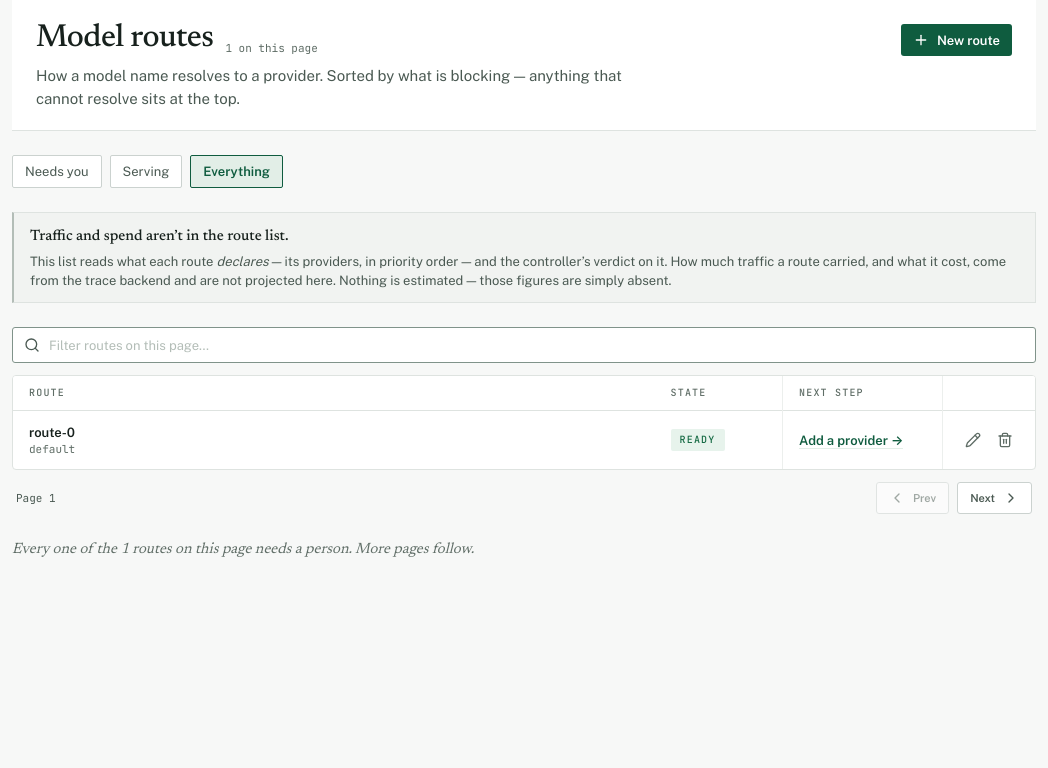
Scenario: ModelRoutesPage — list › paginates: Next pushes cursor, Prev pops it
expect the text "route-0" is shown: met, box 29,425 -> 75,440
Click the button with aria-label "Next page" at (995, 498), box 957,482 -> 1032,514
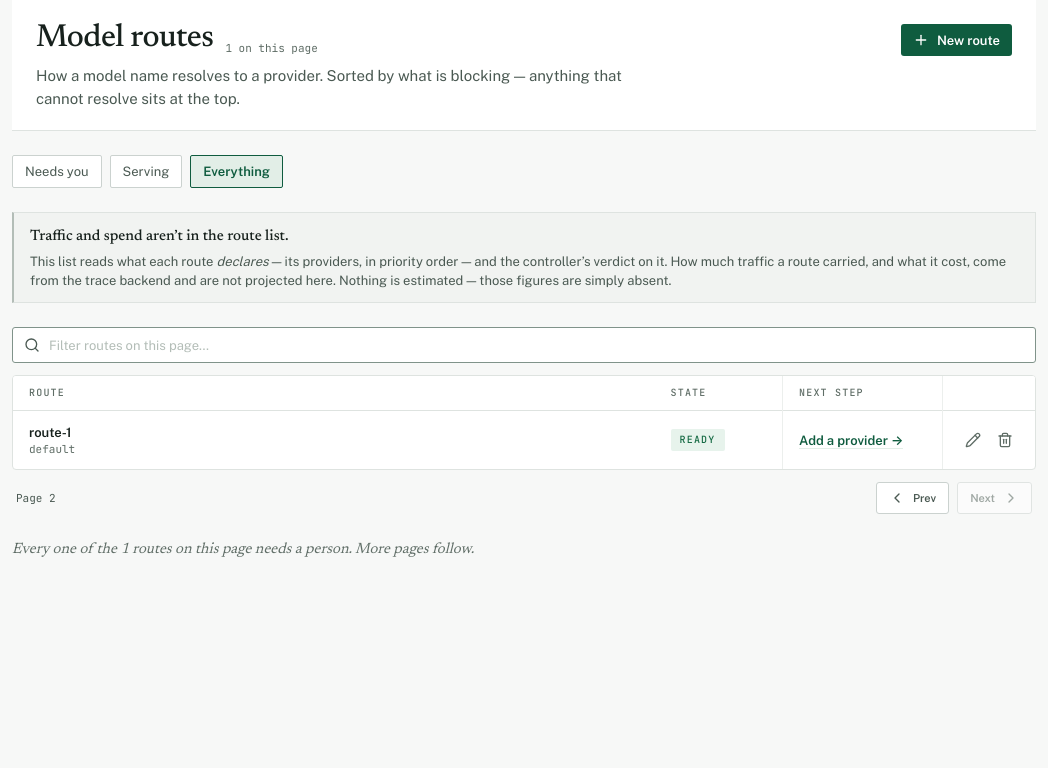
expect the text "route-1" is shown: met, box 29,425 -> 71,440
Click the button with aria-label "Previous page" at (913, 498), box 876,482 -> 949,514
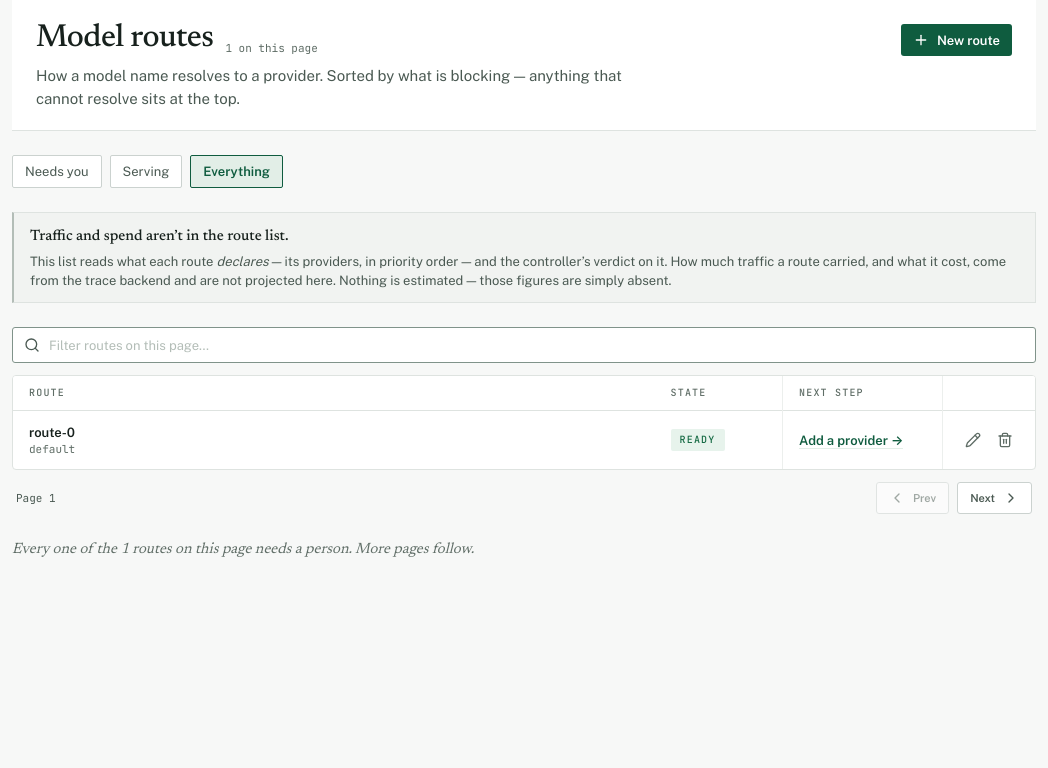
expect the text "route-0" is shown: met, box 29,425 -> 75,440
